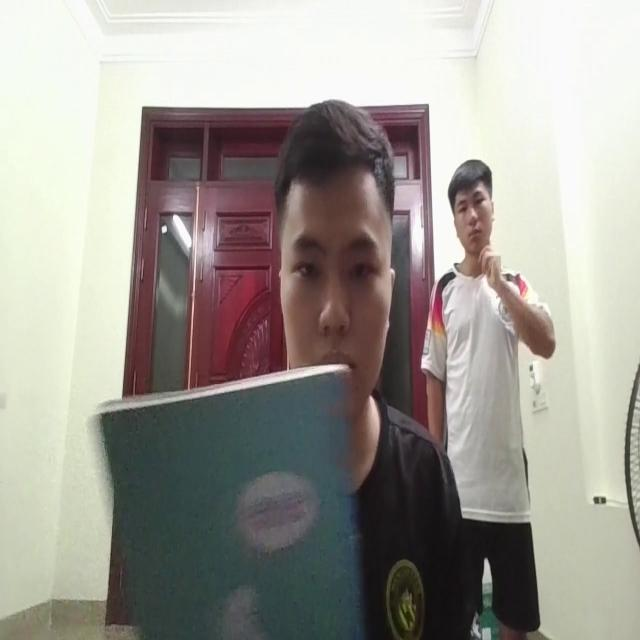book: (94, 357, 350, 640)
extra_person: (428, 146, 547, 640)
student: (278, 105, 399, 413)
